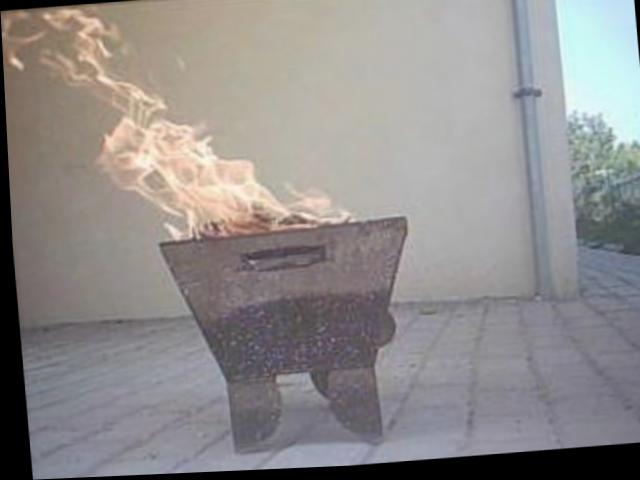fire: (13, 0, 394, 265)
